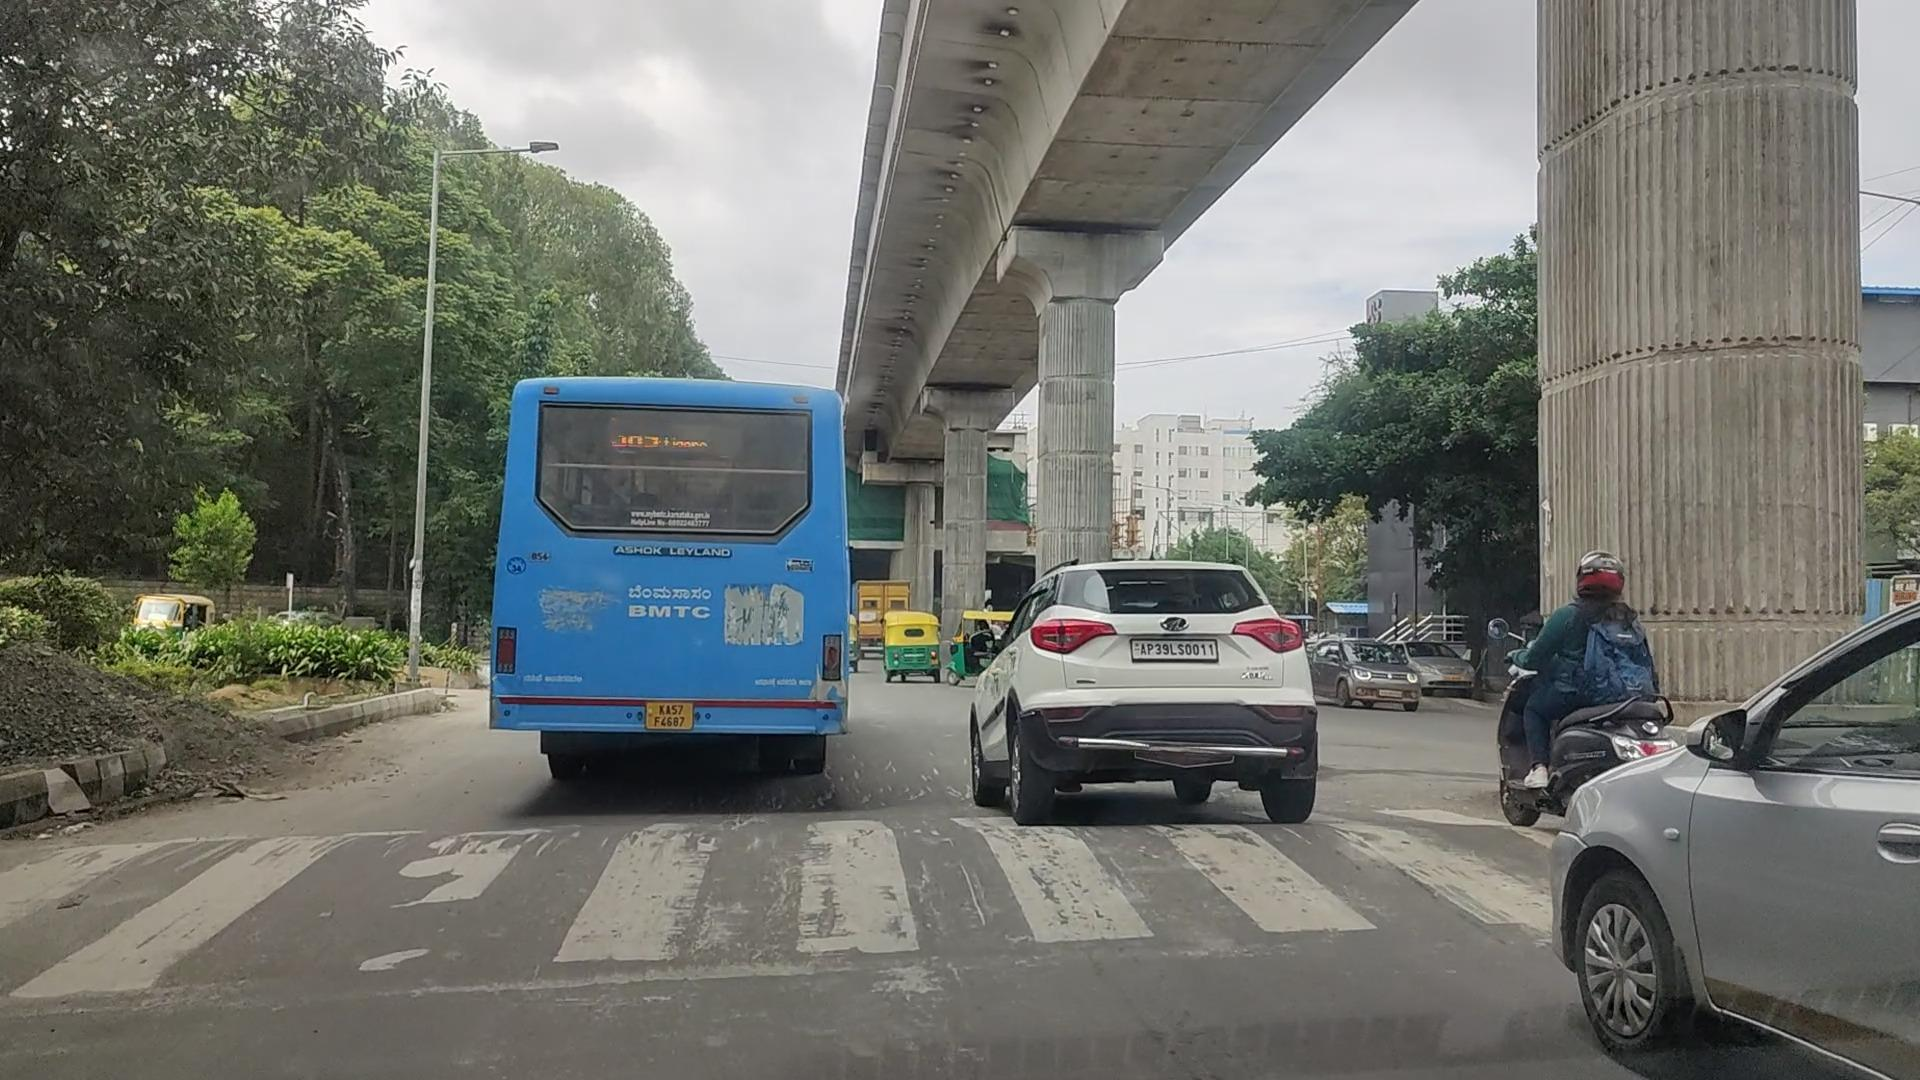LMV: (501, 382, 837, 752), (985, 553, 1316, 796)
SpeedBump: (46, 815, 1490, 967)
